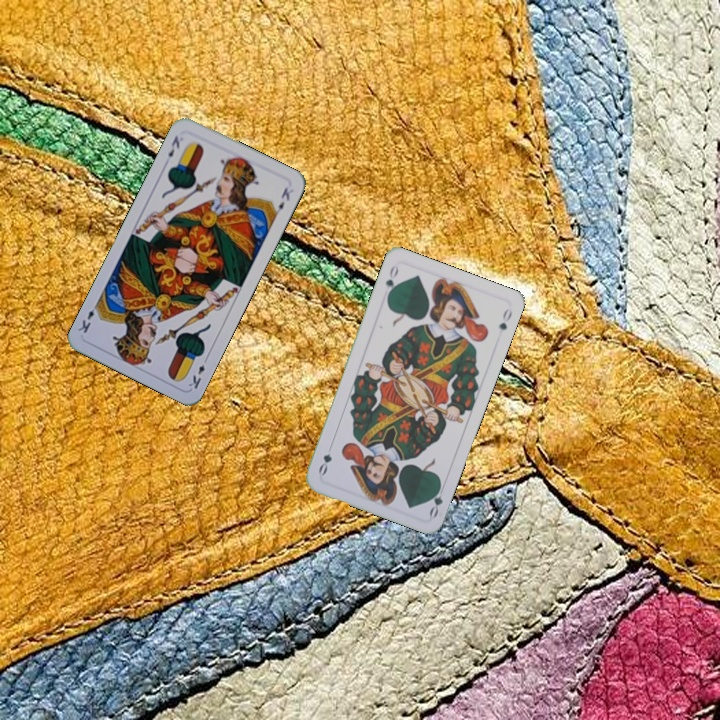EK: (184, 352, 211, 392), (164, 131, 182, 160)
GO: (425, 479, 448, 520), (381, 261, 401, 301)
